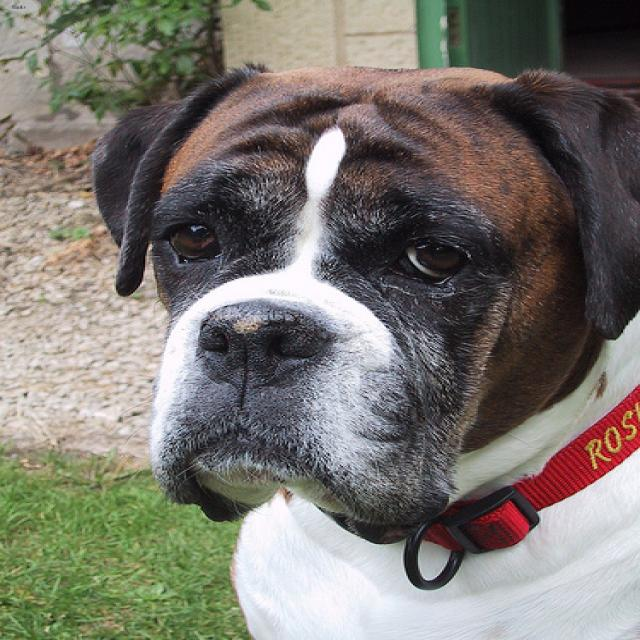dog-boxer: (89, 49, 637, 637)
